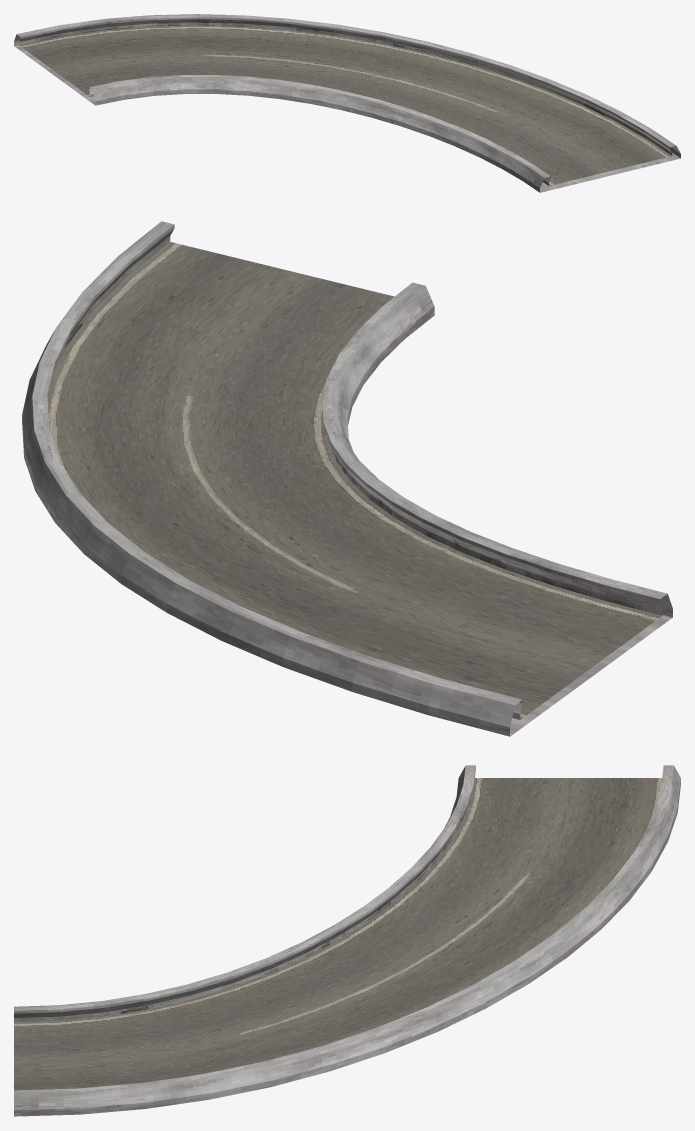
File: turn-left3x3.glb
The picture shows the model from 3 angles, top to bottom: view 1: azimuth 30°, elevation 25°; view 2: azimuth 150°, elevation 25°; view 3: azimuth 270°, elevation 25°; orthographic projection. The views are drawn at different scales.
Visible parts, largest first — view 1: road-Turn-Flat-Flat-Up1-Left-Size3; view 2: road-Turn-Flat-Flat-Up1-Left-Size3; view 3: road-Turn-Flat-Flat-Up1-Left-Size3.
Part boxes in pixels (x1=…): road-Turn-Flat-Flat-Up1-Left-Size3: x1=14, y1=14, x2=680, y2=192; road-Turn-Flat-Flat-Up1-Left-Size3: x1=22, y1=221, x2=672, y2=736; road-Turn-Flat-Flat-Up1-Left-Size3: x1=14, y1=765, x2=680, y2=1116.
Bounding box in the file's own units: 3 × 0.3438 × 3.
Materials: 2 (2 with a texture image).
